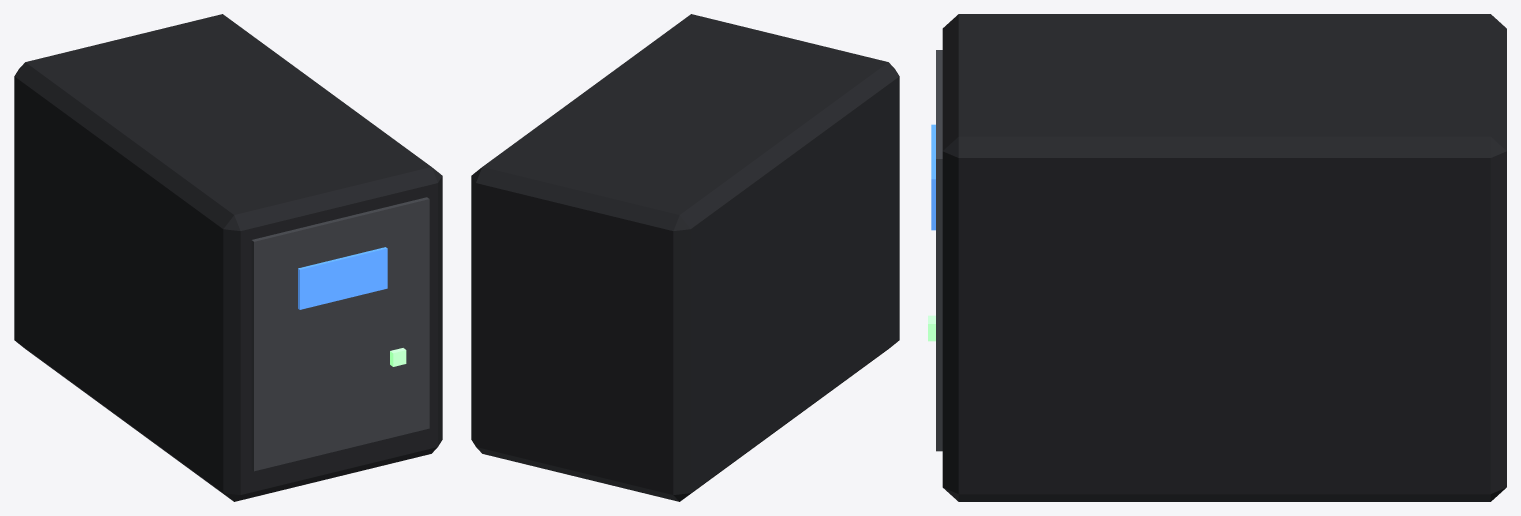
Rendered from ups.glb.
3 views of the same model, side by side, from view 1: azimuth 30°, elevation 25°; view 2: azimuth 150°, elevation 25°; view 3: azimuth 270°, elevation 25° (orthographic). The views are drawn at different scales.
Parts seen in each view (by area): view 1: ups, ups_lcd; view 2: ups; view 3: ups.
Boxes of the visible parts, box(x1,y1,x2,y2) form: ups: box(14, 14, 442, 501); ups_lcd: box(298, 247, 387, 309); ups: box(471, 14, 899, 501); ups: box(936, 14, 1506, 501).
Bounding box in the file's own units: 0.2 × 0.25 × 0.359.
Materials: 3 (1 with a texture image).
